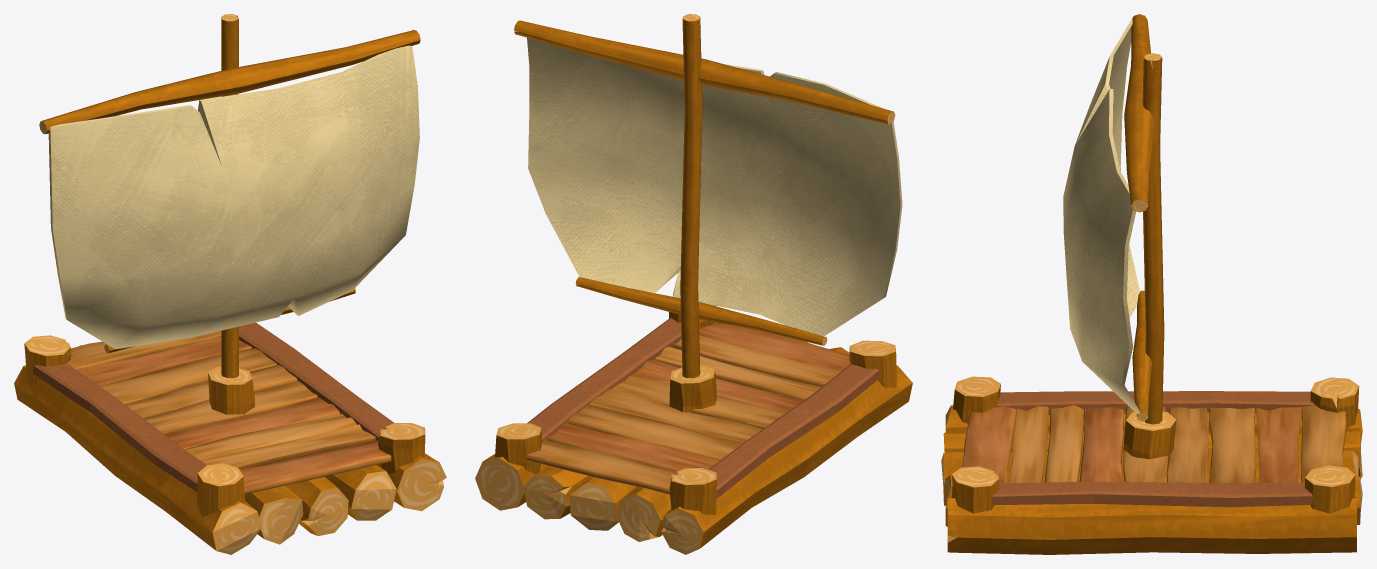
The model's file is barco_v2.fbx.
3 views of the same model, side by side, from view 1: azimuth 30°, elevation 25°; view 2: azimuth 150°, elevation 25°; view 3: azimuth 270°, elevation 25° (orthographic).
Visible parts, largest first — view 1: barco_ex; view 2: barco_ex; view 3: barco_ex.
Part boxes in pixels (<box>): barco_ex: <box>14,14,446,554</box>; barco_ex: <box>475,14,912,554</box>; barco_ex: <box>941,14,1362,554</box>.
Size of the model in its own units: 2174 by 2477 by 2087.
